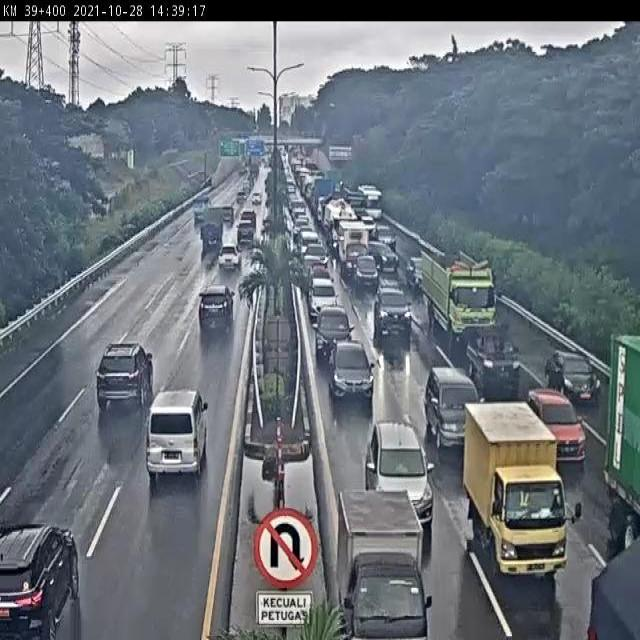big truck: (421, 246, 498, 342)
car: (363, 423, 433, 524), (145, 390, 208, 478), (526, 386, 588, 466), (425, 367, 481, 453), (96, 344, 154, 409), (324, 334, 378, 402), (545, 352, 602, 407), (372, 286, 412, 342), (314, 305, 355, 359), (305, 277, 339, 324), (197, 284, 234, 327), (354, 252, 380, 288), (407, 253, 428, 290), (217, 241, 242, 271), (235, 220, 255, 244)
mid truck: (464, 401, 567, 579), (200, 205, 225, 251)
small truck: (336, 493, 427, 640), (467, 330, 521, 390)
